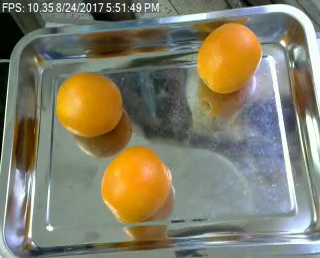Orange: (99, 145, 173, 222), (196, 22, 262, 93), (55, 72, 123, 138)
